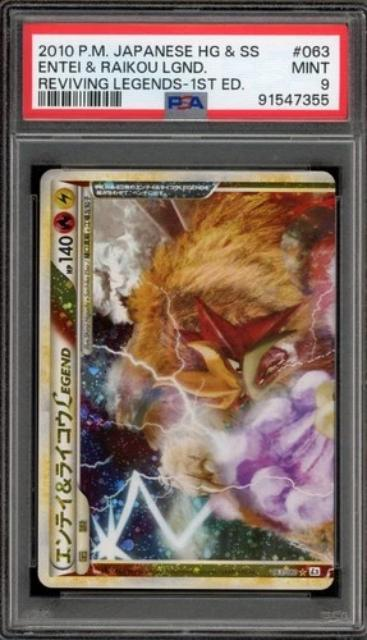Card: (33, 166, 340, 592)
Name: (51, 336, 77, 570)
